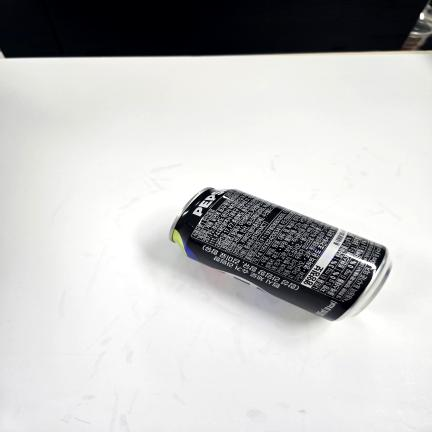can_pepsi_zero: (169, 188, 391, 321)
